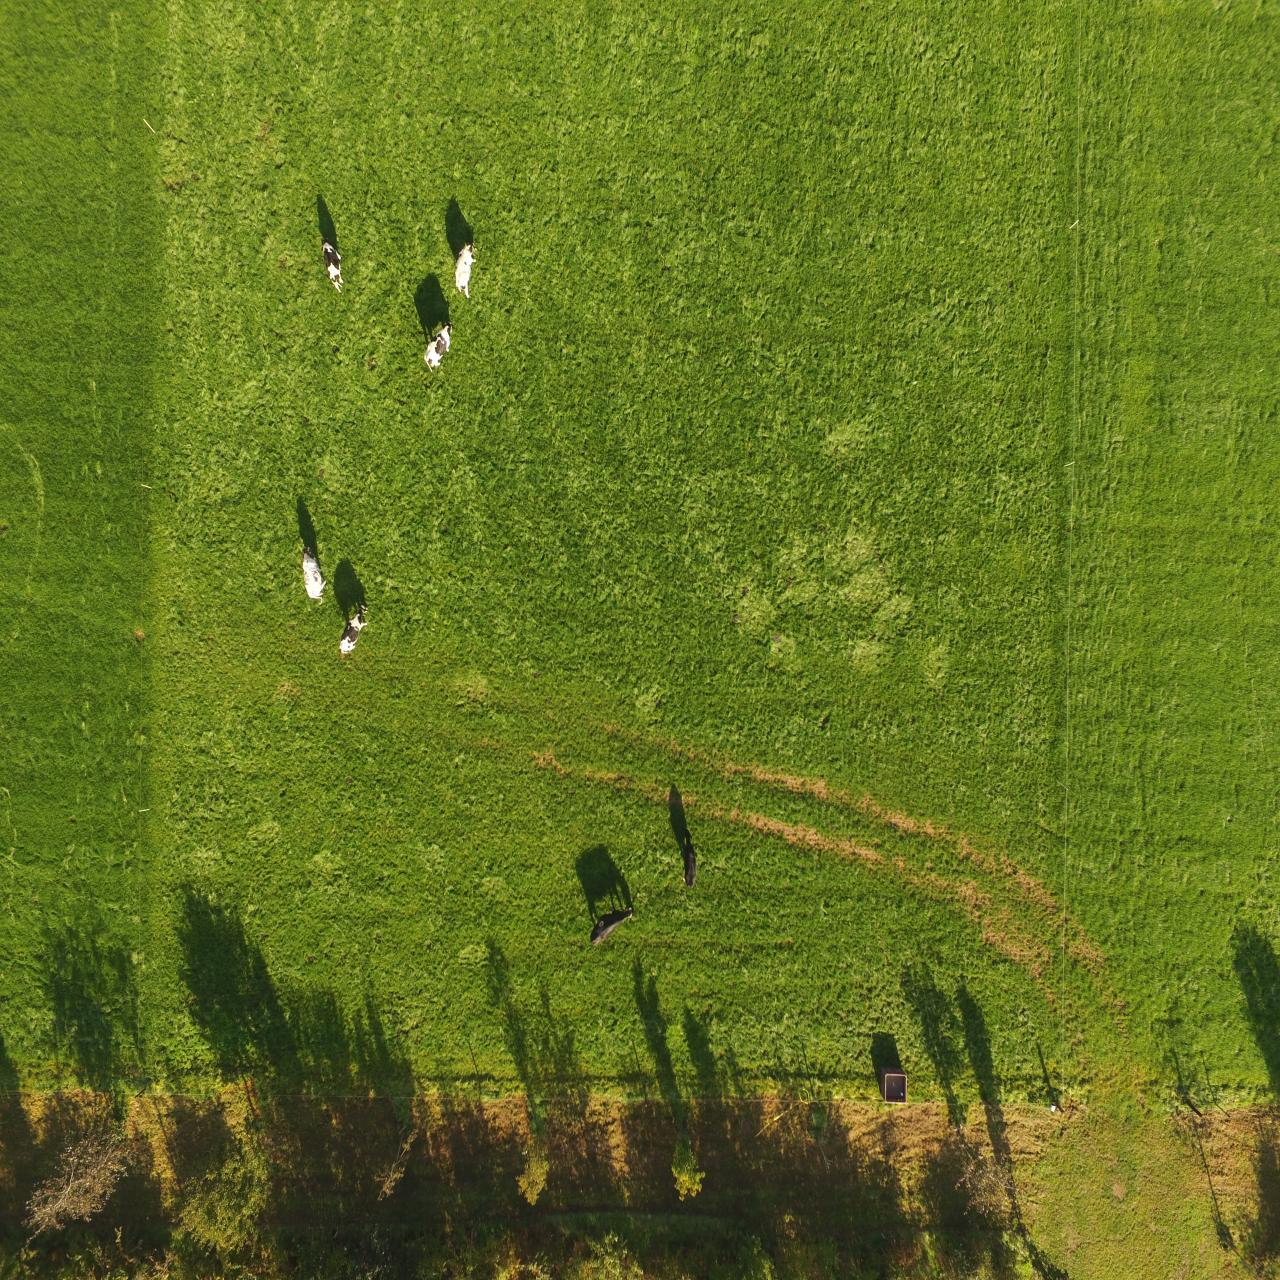cow: (333, 595, 372, 663), (448, 238, 483, 301), (584, 904, 638, 945), (298, 543, 328, 610), (424, 321, 456, 377), (315, 238, 348, 292), (681, 838, 702, 888)
